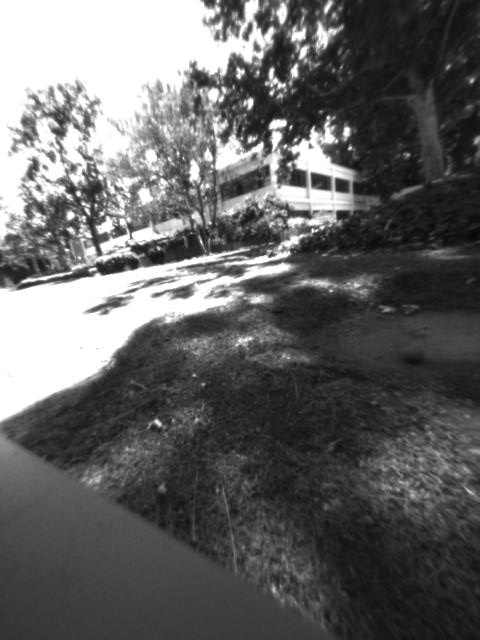dogtoy: (392, 335, 430, 369)
